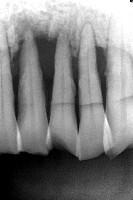Dental Caries: (10, 2, 110, 58)
